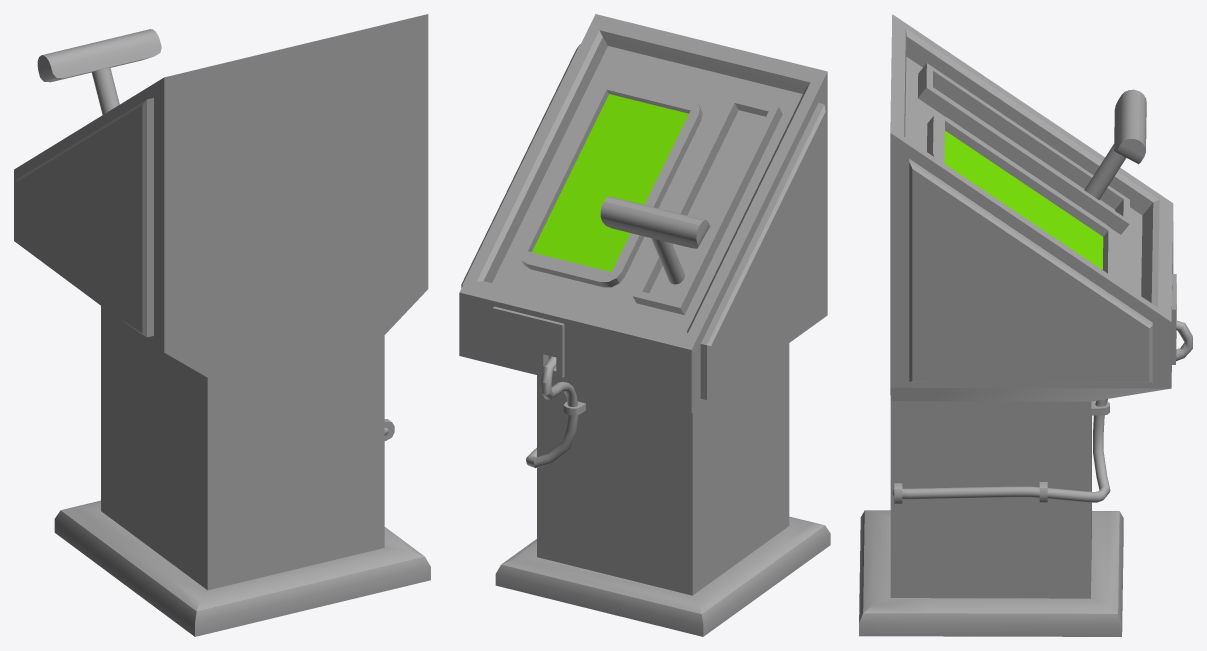
Rendered from Handle.fbx.
The picture shows the model from 3 angles, left to right: view 1: azimuth 30°, elevation 25°; view 2: azimuth 150°, elevation 25°; view 3: azimuth 270°, elevation 25°; orthographic projection. The views are drawn at different scales.
Visible parts, largest first — view 1: handle_pedestle, handle, joystick; view 2: handle_pedestle, ipad_screen, handle, wiring, joystick; view 3: handle_pedestle, ipad_screen, wiring, handle, joystick.
Boxes of the visible parts, x1,y1,x2,y2 form: handle_pedestle: (14, 14, 430, 636); handle: (37, 29, 161, 82); joystick: (91, 67, 119, 114); handle_pedestle: (459, 14, 830, 636); ipad_screen: (518, 79, 702, 287); handle: (600, 196, 710, 248); wiring: (526, 356, 578, 468); joystick: (651, 238, 684, 284); handle_pedestle: (859, 14, 1176, 636); ipad_screen: (927, 113, 1119, 280); wiring: (892, 320, 1192, 502); handle: (1114, 89, 1146, 164); joystick: (1084, 144, 1125, 199).
Size of the model in its own units: 0.0108 by 0.02 by 0.0119.
